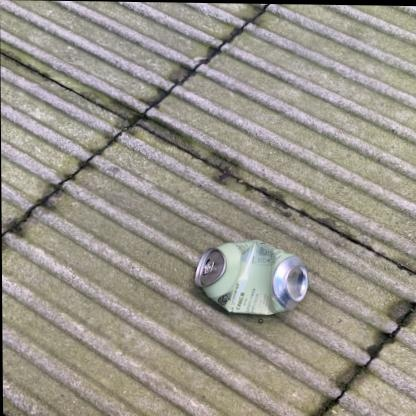trash: (195, 240, 307, 314)
